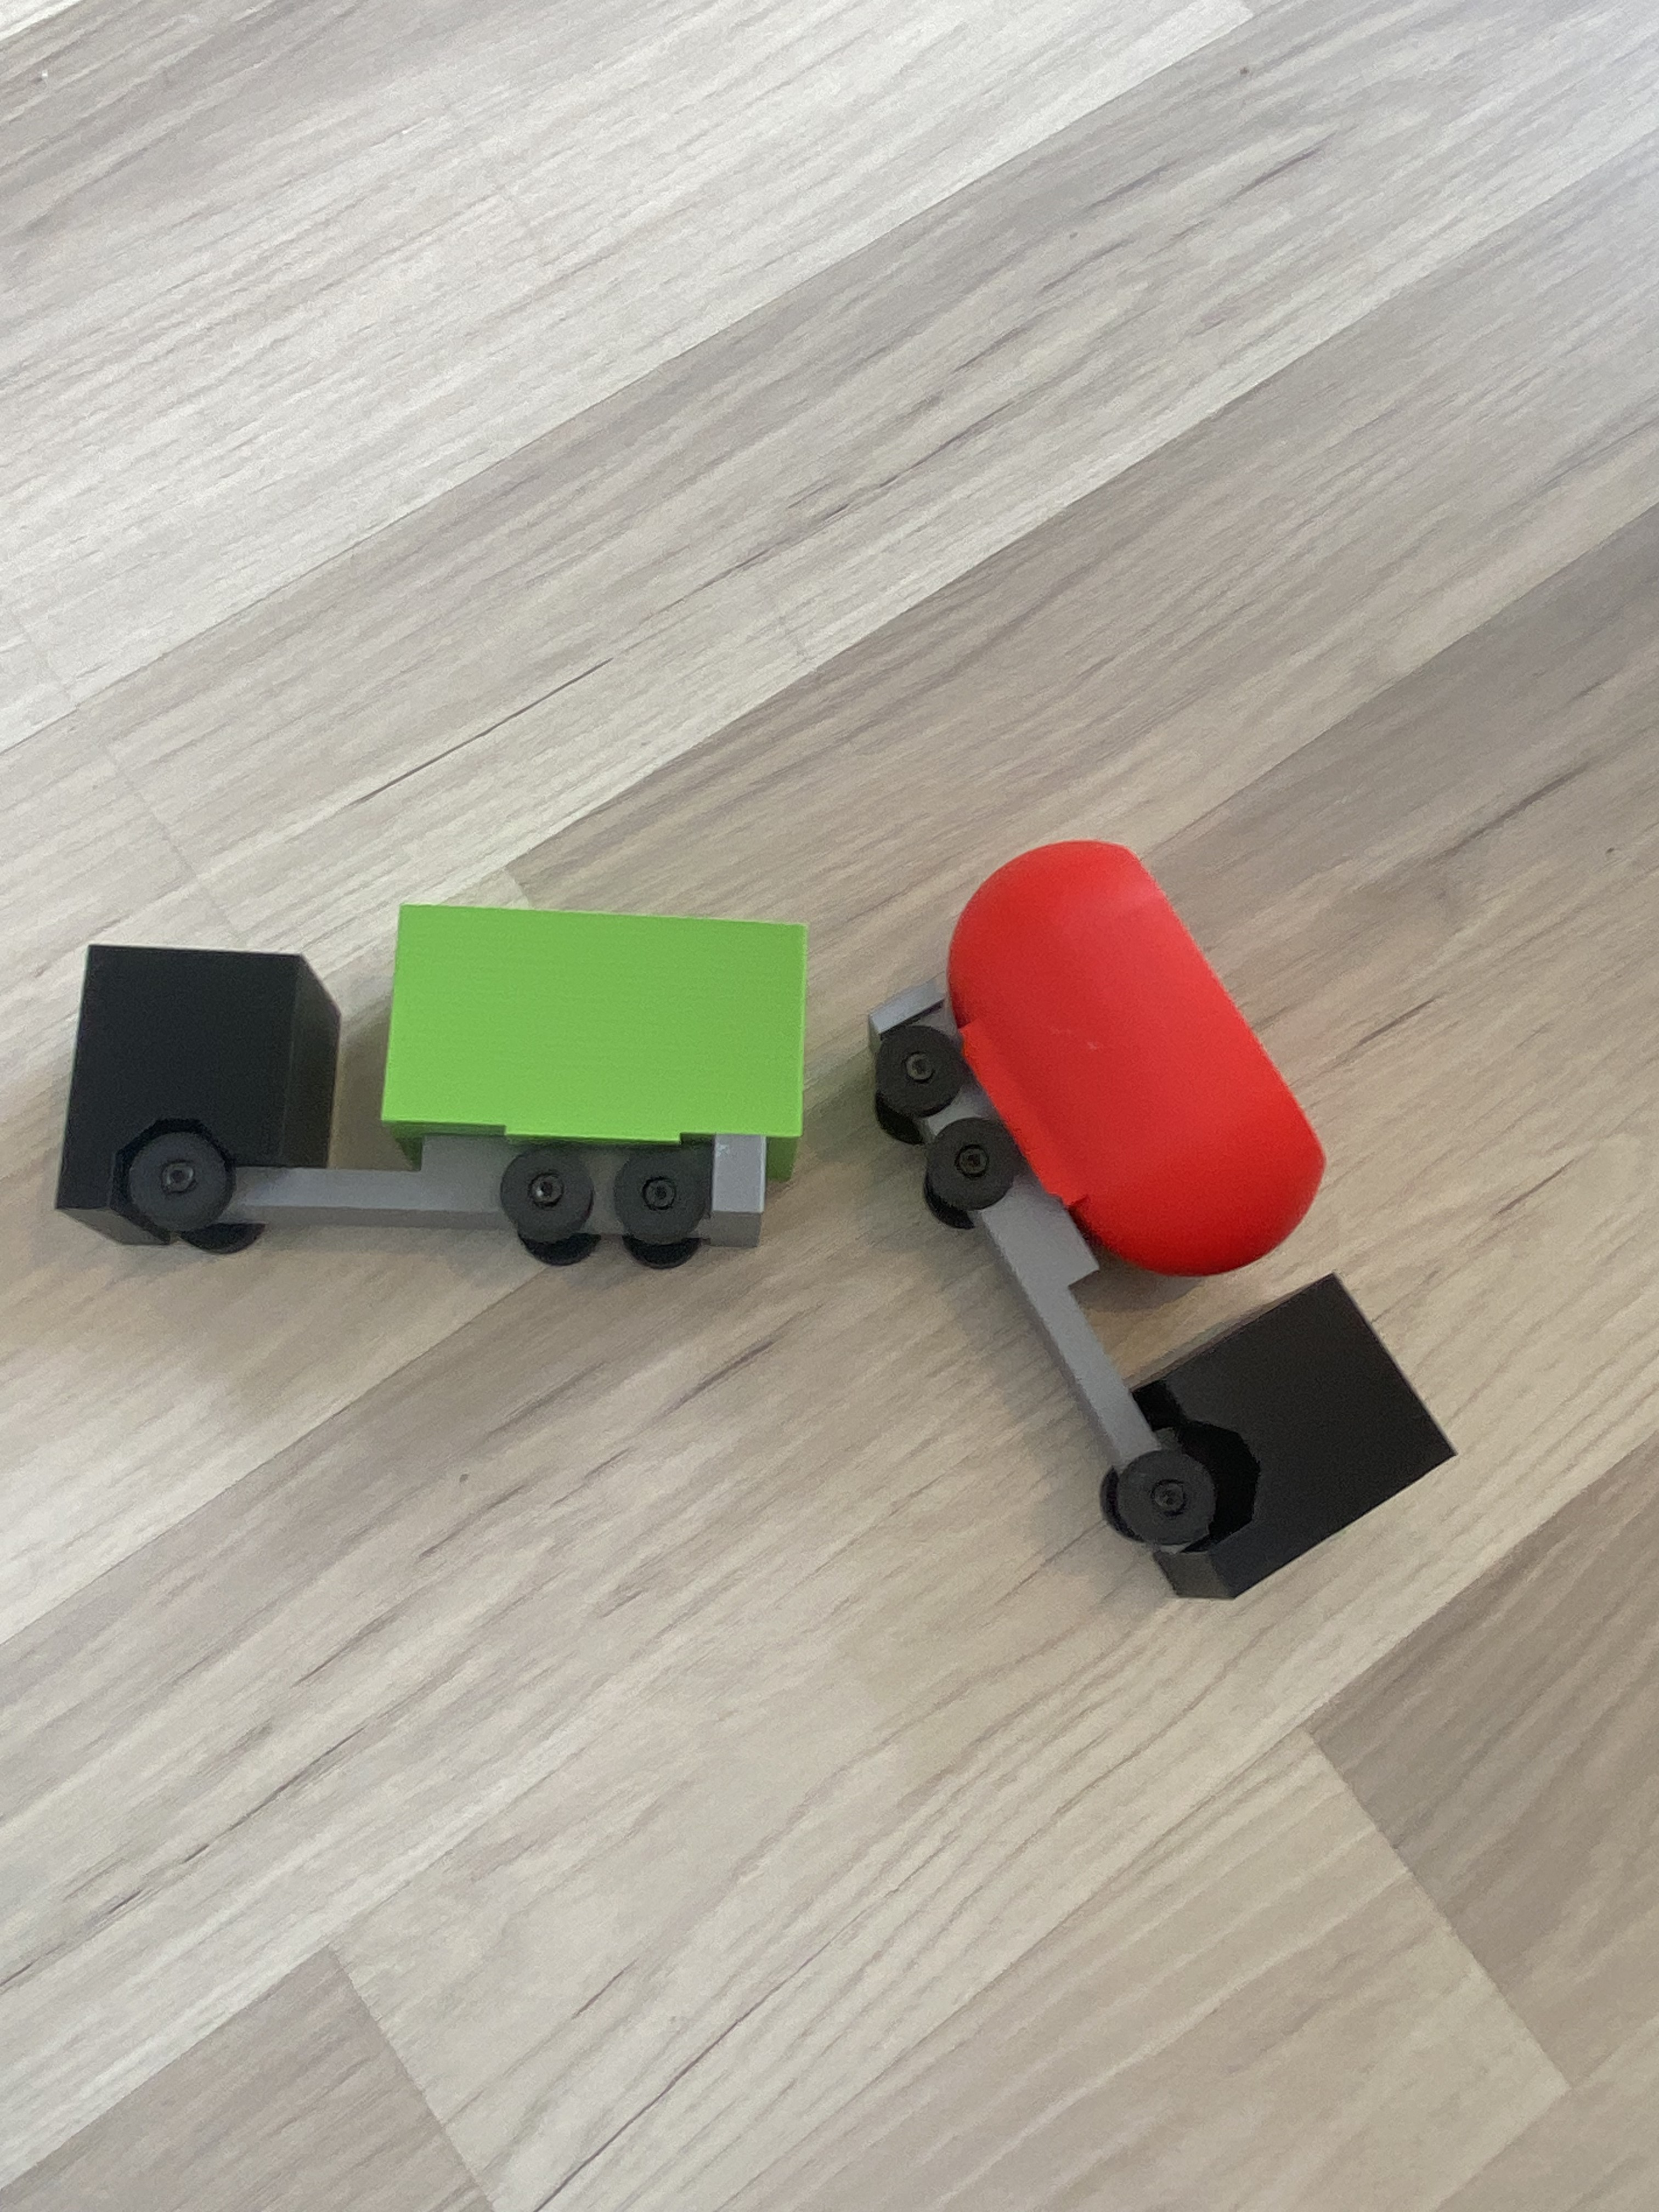green_truck: (239, 709, 633, 1467)
red_truck: (953, 827, 1335, 1601)
